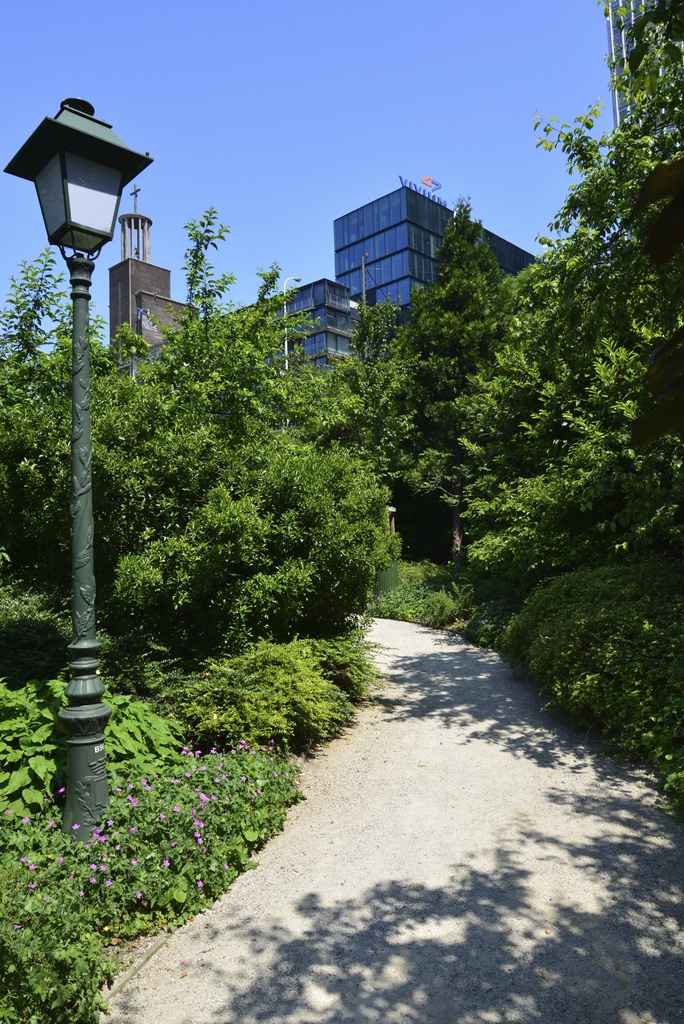Tree: (0, 0, 683, 823)
